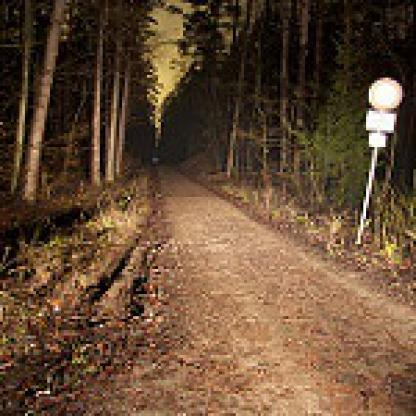road: (139, 142, 413, 414)
tree: (308, 31, 377, 230)
trunk: (19, 0, 70, 205), (6, 0, 33, 194), (86, 0, 108, 186), (277, 0, 294, 203), (297, 0, 313, 200), (103, 0, 119, 183), (114, 67, 133, 183)
